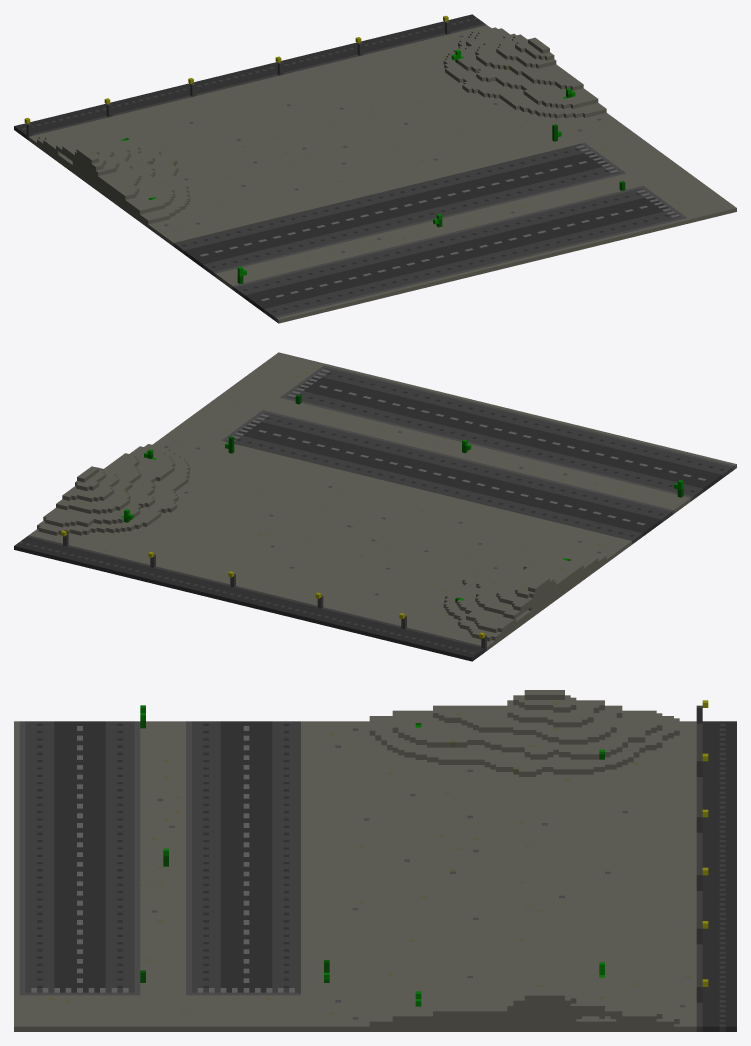
The model's file is terrain_right.obj.
3 renders of one model, top to bottom at view 1: azimuth 30°, elevation 25°; view 2: azimuth 150°, elevation 25°; view 3: azimuth 270°, elevation 25°, orthographic. The views are drawn at different scales.
Size of the model in its own units: 126 by 7 by 126.
Materials: 1 (1 with a texture image).
